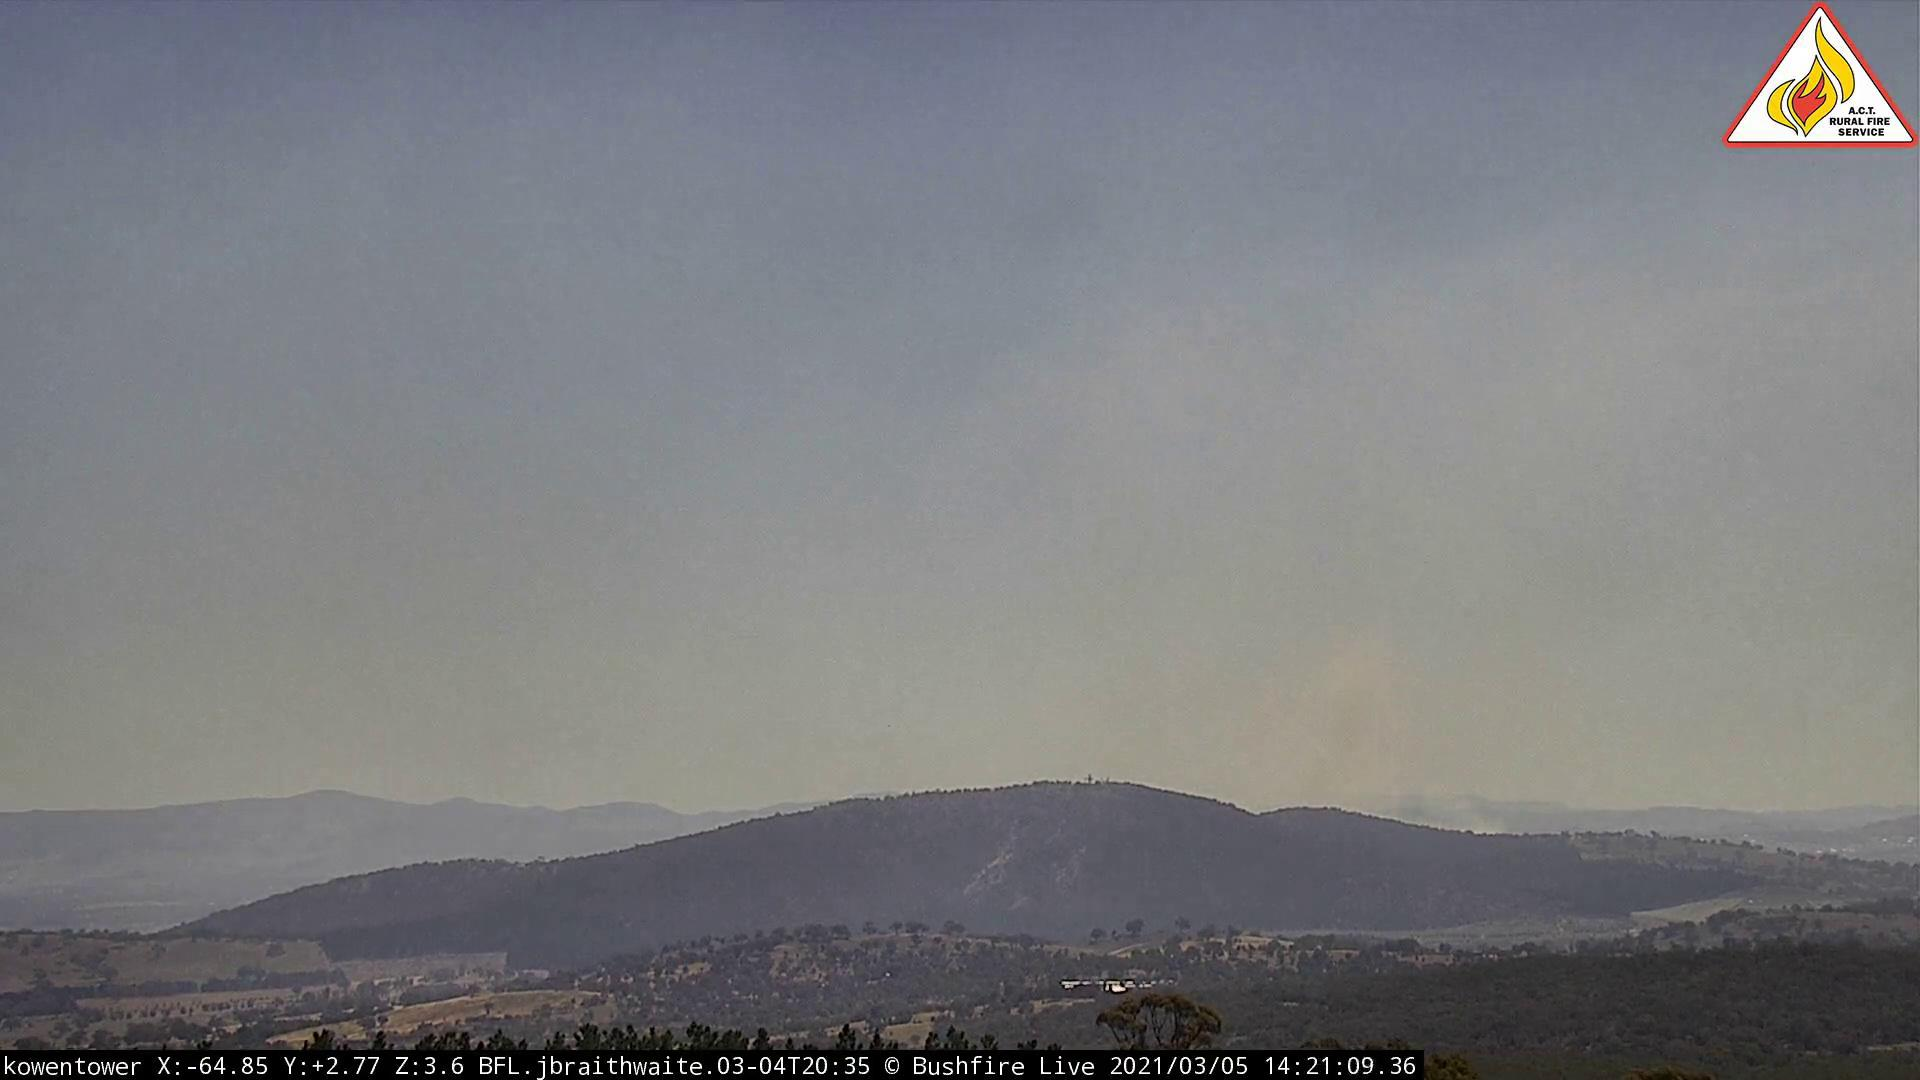instance_salient_object: (1222, 559, 1547, 843)
